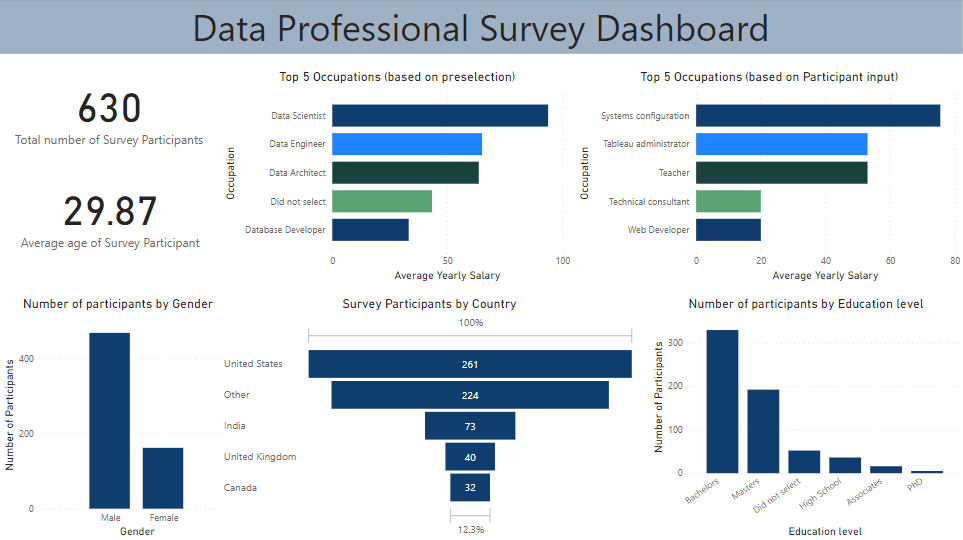

What the dashboard file says about the page in this screenshot:
{"tool":"powerbi","page":{"name":"Page 1","canvas":[1280,720],"ordinal":0},"visuals":[{"type":"textbox","box":[0,0,1277.9,74.5],"z":0},{"type":"card","fields":{"Values":["Avg(Data Professional Survey.Q10 - Current Age)"]},"box":[0,195.7,290.6,121.2],"z":1000},{"type":"card","fields":{"Values":["Count(Data Professional Survey.Unique ID.1)"]},"box":[0,75.9,290.6,150.4],"z":2000},{"type":"barChart","title":"Top 5 Occupations (based on preselection)","fields":{"Category":["Data Professional Survey.Q1 - Which Title Best Fits your Current Role? Preselected (Modified)"],"Y":["Avg(Data Professional Survey.Average Yearly Salary)"],"Series":["Data Professional Survey.Q1 - Which Title Best Fits your Current Role? Preselected (Modified)"]},"box":[0,334.1,476,385.9],"z":3000},{"type":"barChart","title":"Top 5 Occupations (based on user input)","fields":{"Category":["Data Professional Survey.Q1 - Which Title Best Fits your Current Role? - (User specified - Modified)"],"Y":["Avg(Data Professional Survey.Q10 - Current Age)"],"Series":["Data Professional Survey.Q1 - Which Title Best Fits your Current Role? - (User specified - Modified)"]},"box":[476,360.7,519.8,359.3],"z":4000},{"type":"columnChart","title":"Number of participants by gender category","fields":{"Category":["Data Professional Survey.Q9 - Male/Female?"],"Y":["CountNonNull(Data Professional Survey.Q9 - Male/Female?)"]},"box":[347.4,74.2,412.4,259.9],"z":5000},{"type":"funnel","title":"Survey Participants by Country","fields":{"Category":["Data Professional Survey.Q11 - Which Country do you live in?.1.1"],"Y":["CountNonNull(Data Professional Survey.Q11 - Which Country do you live in?.1.1)"]},"box":[759.8,74.2,519.8,286.4],"z":6000},{"type":"columnChart","title":"Number of participants by Education level","fields":{"Category":["Data Professional Survey.Q12 - Highest Level of Education"],"Y":["CountNonNull(Data Professional Survey.Unique ID.1)"]},"box":[940.1,360.7,339.4,359.3],"z":7000}]}

Visuals, with their boxes in screenshot pixels (x1, y1, x2, y2), scaled from the page's 1280x720 canvas onto the 963x540 screenshot:
textbox: <box>0,0,961,56</box>
card - Avg(Data Professional Survey.Q10 - Current Age): <box>0,147,219,238</box>
card - Count(Data Professional Survey.Unique ID.1): <box>0,57,219,170</box>
"Top 5 Occupations (based on preselection)" barChart: <box>0,251,358,539</box>
"Top 5 Occupations (based on user input)" barChart: <box>358,271,749,539</box>
"Number of participants by gender category" columnChart: <box>261,56,572,251</box>
"Survey Participants by Country" funnel: <box>572,56,962,270</box>
"Number of participants by Education level" columnChart: <box>707,271,962,539</box>
